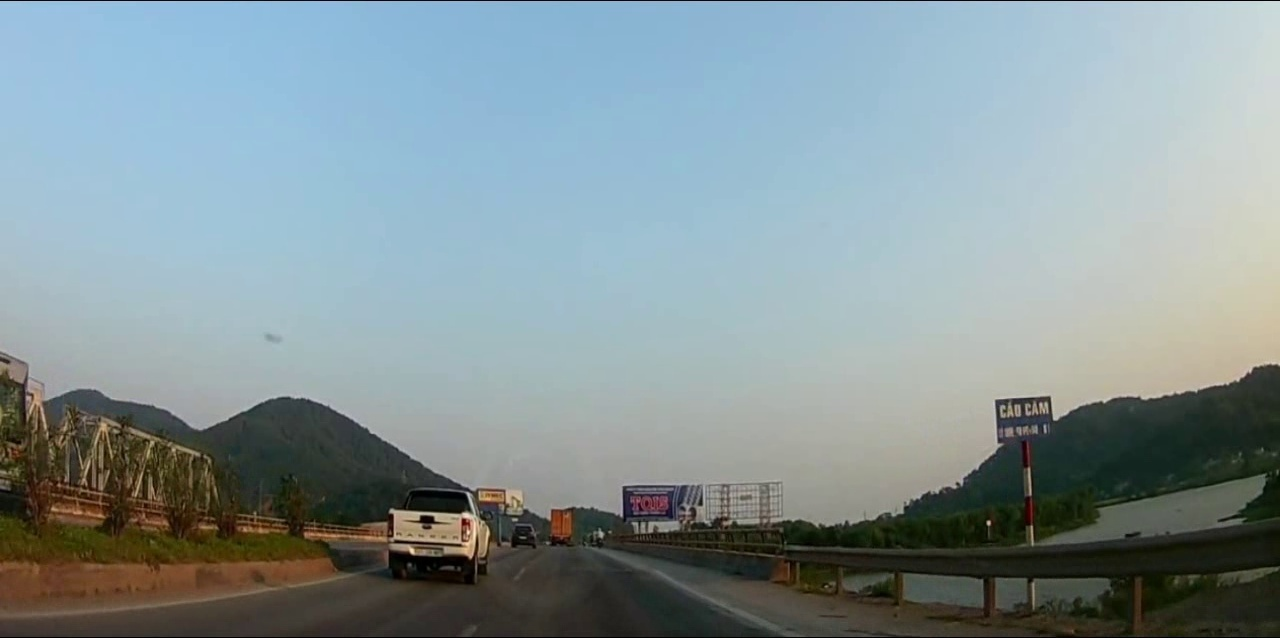Bien khac: (994, 394, 1057, 440)
